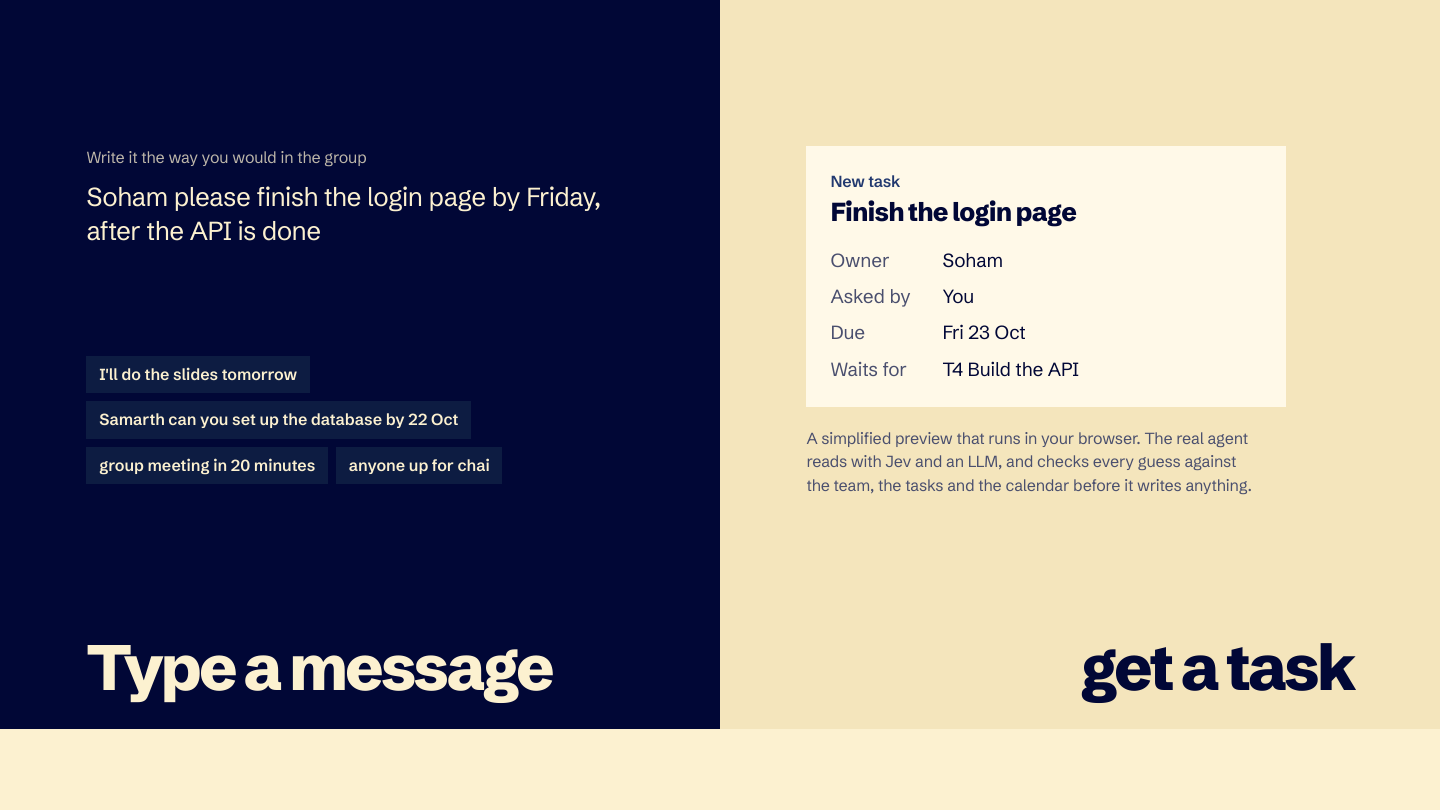
Scenario: Try it › sample buttons fill the box, and small talk records nothing
Click the button "anyone up for chai" at (419, 466), box [336,447,502,484]
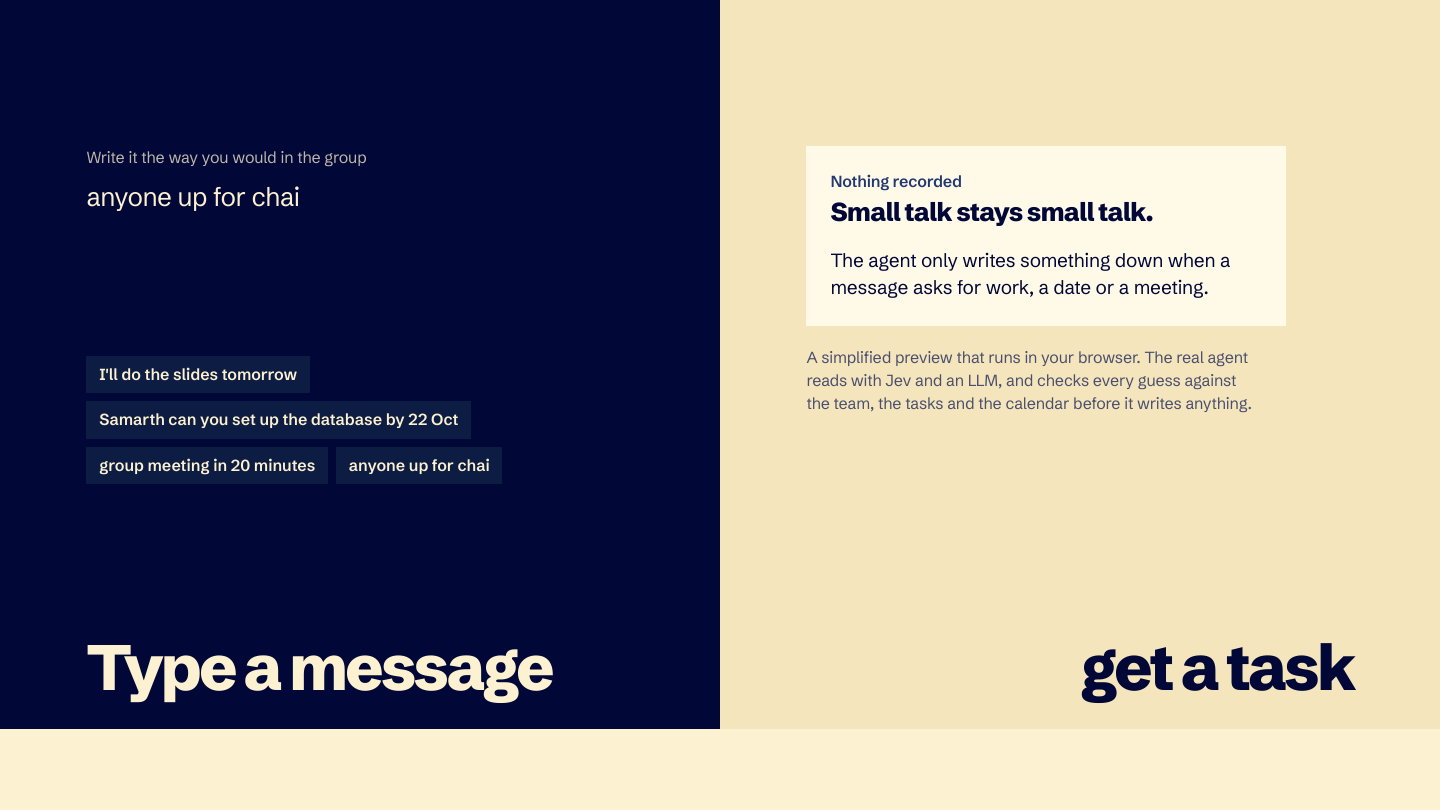
Now the element with test id "try-out" shows "Small talk stays small talk.", box [830,196,1153,228]
Click the button "group meeting in 20 minutes" at (207, 466), box [86,447,328,484]
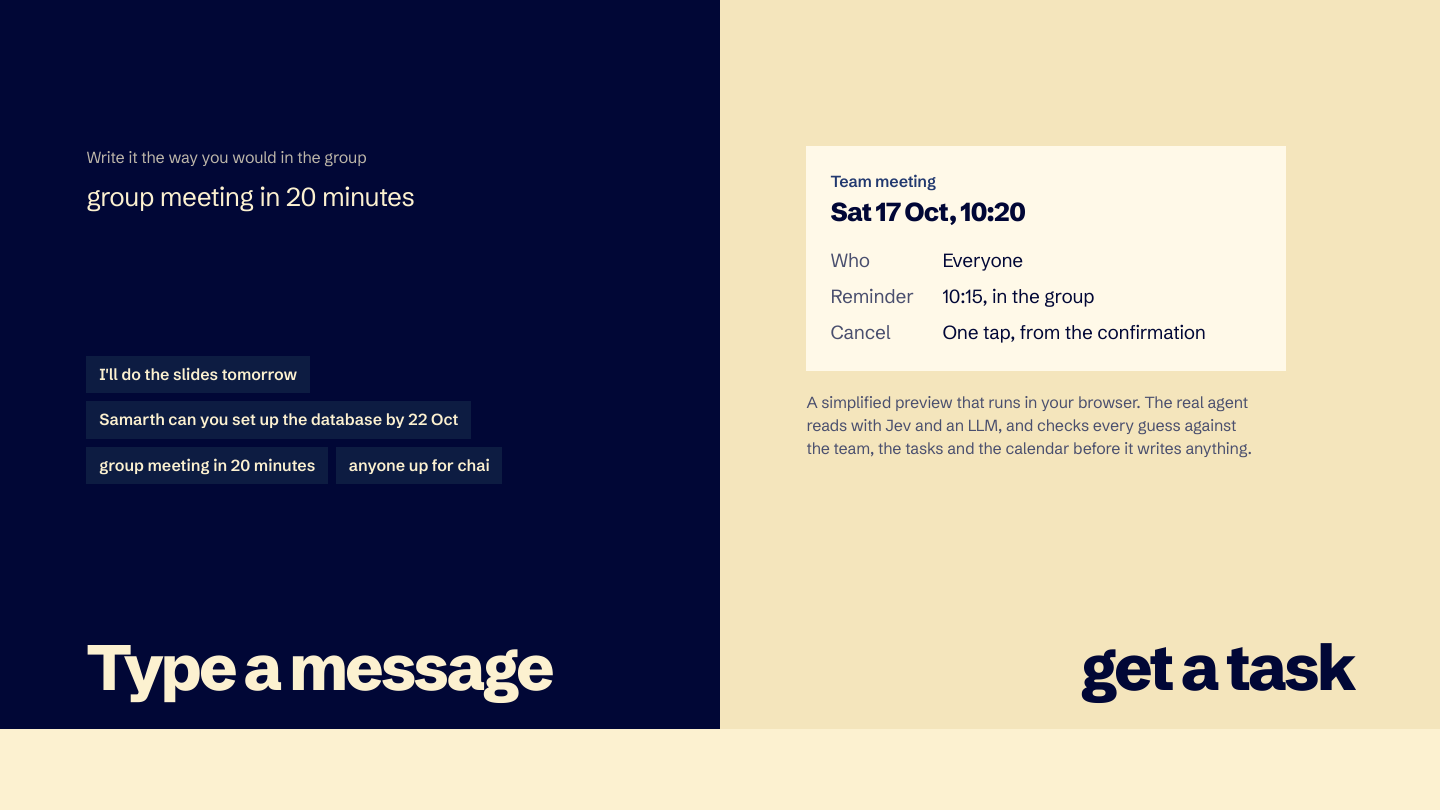
Now the element with test id "try-out" shows "Team meeting", box [830,171,936,191]
